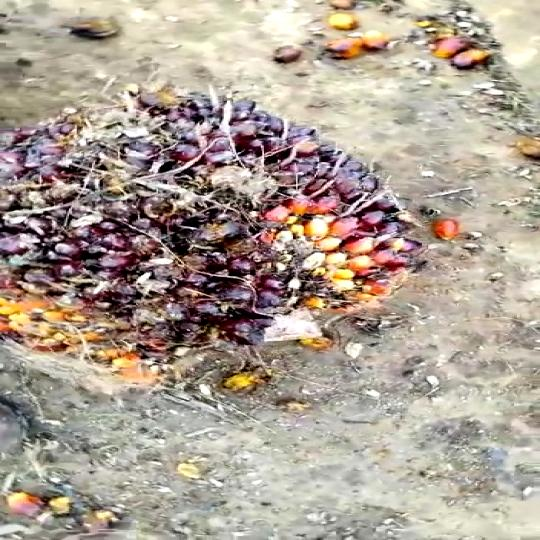mentah: (1, 83, 436, 381)
